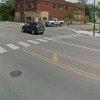Crosswalk: (1, 32, 76, 51)
